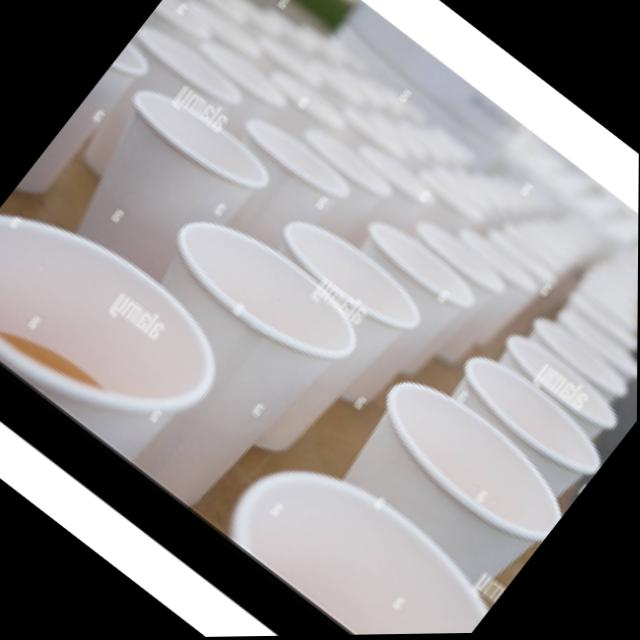paper_cups: (50, 194, 374, 527), (168, 205, 432, 480), (324, 362, 581, 606), (45, 71, 282, 310)
